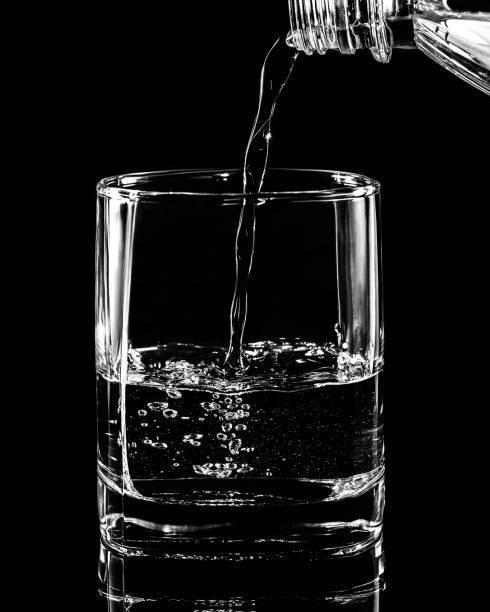glass-normal: (80, 161, 397, 611)
